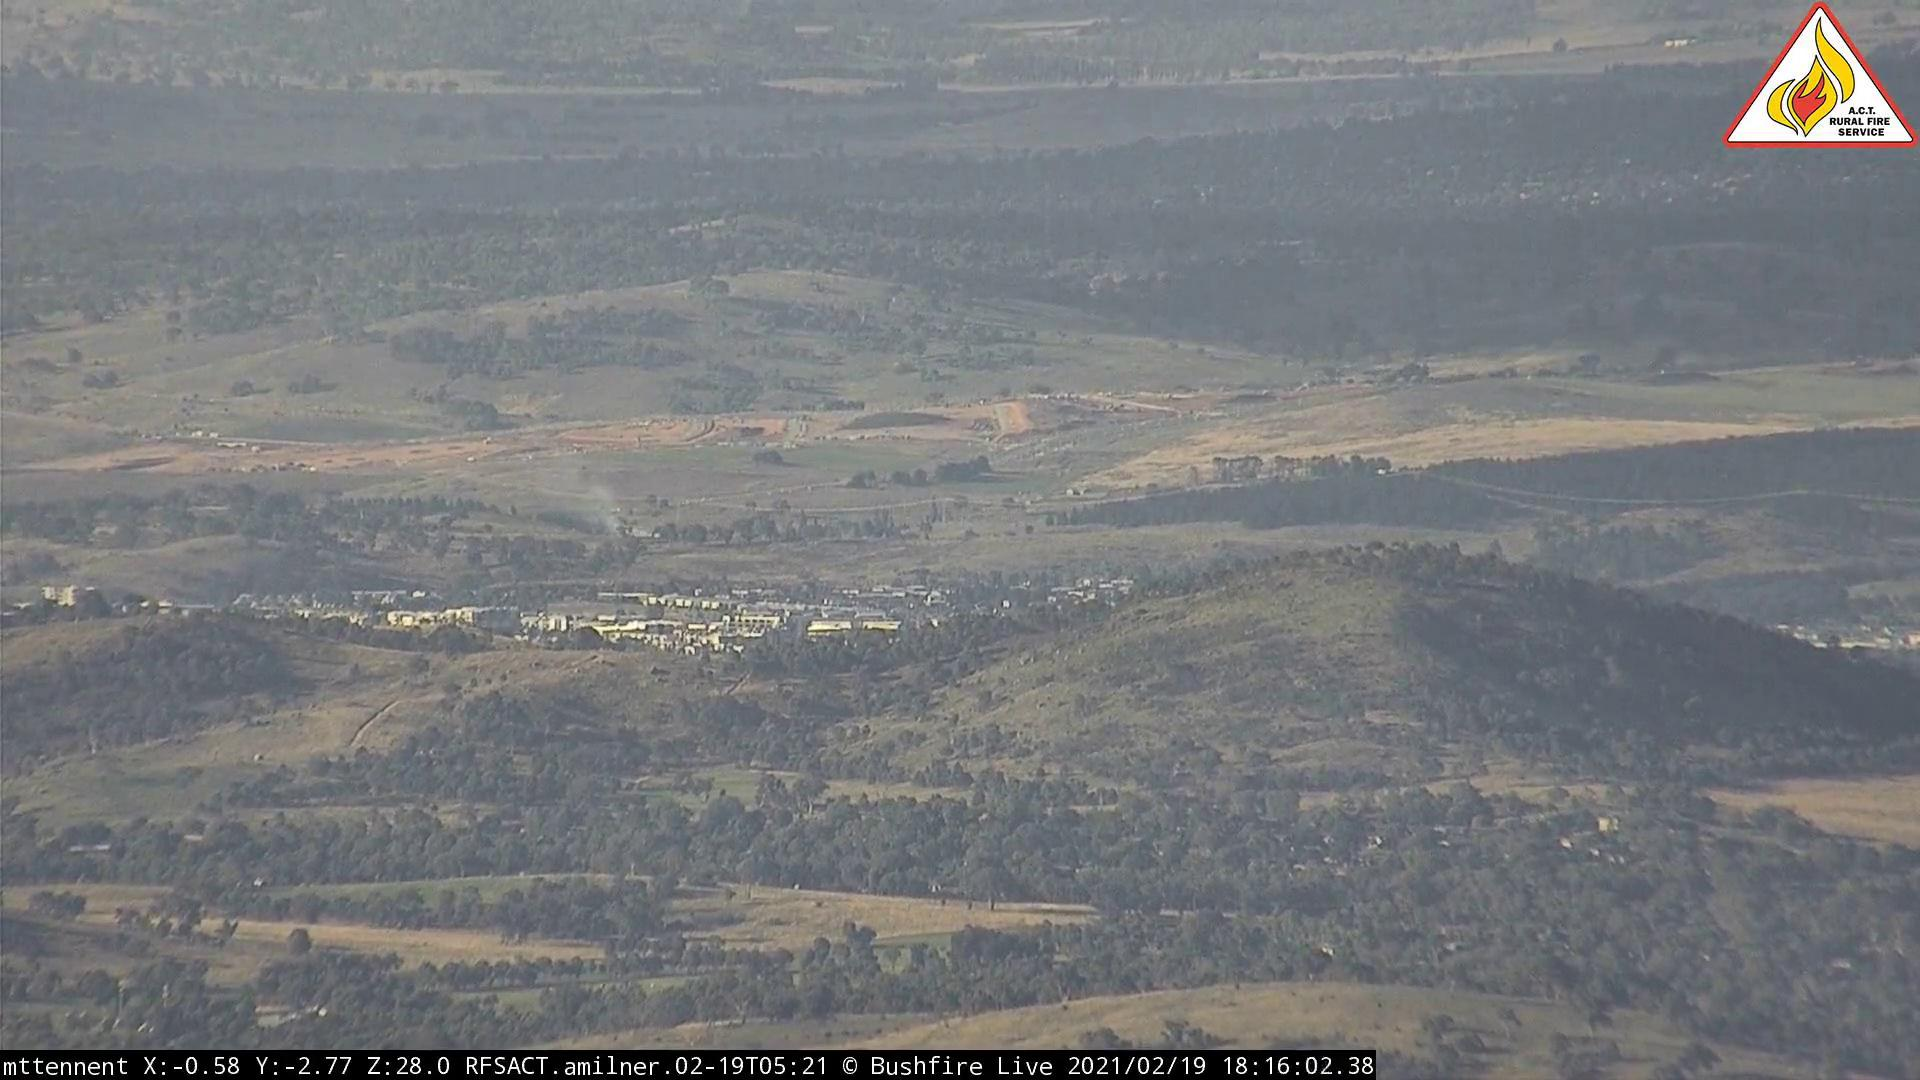Smoke: (593, 504, 667, 550)
